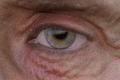eye: (45, 28, 74, 48)
